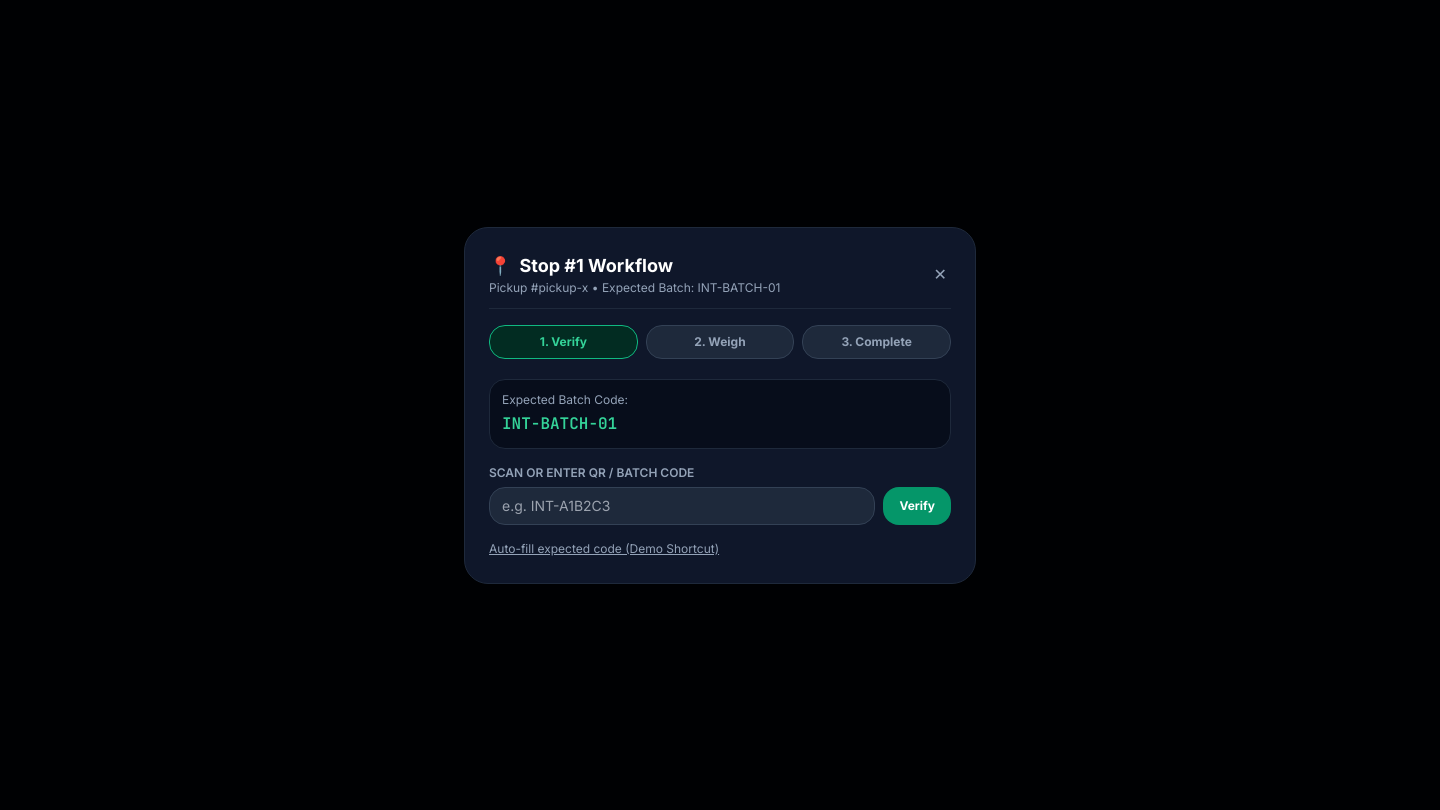
Test: DriverStopDetailModal Component › validates batch code and advances to Weigh tab upon verification
Type "INT-BATCH-01" into the field with placeholder "e.g. INT-A1B2C3". click: [682, 506]
box: top-left (489, 486), bottom-right (875, 524)
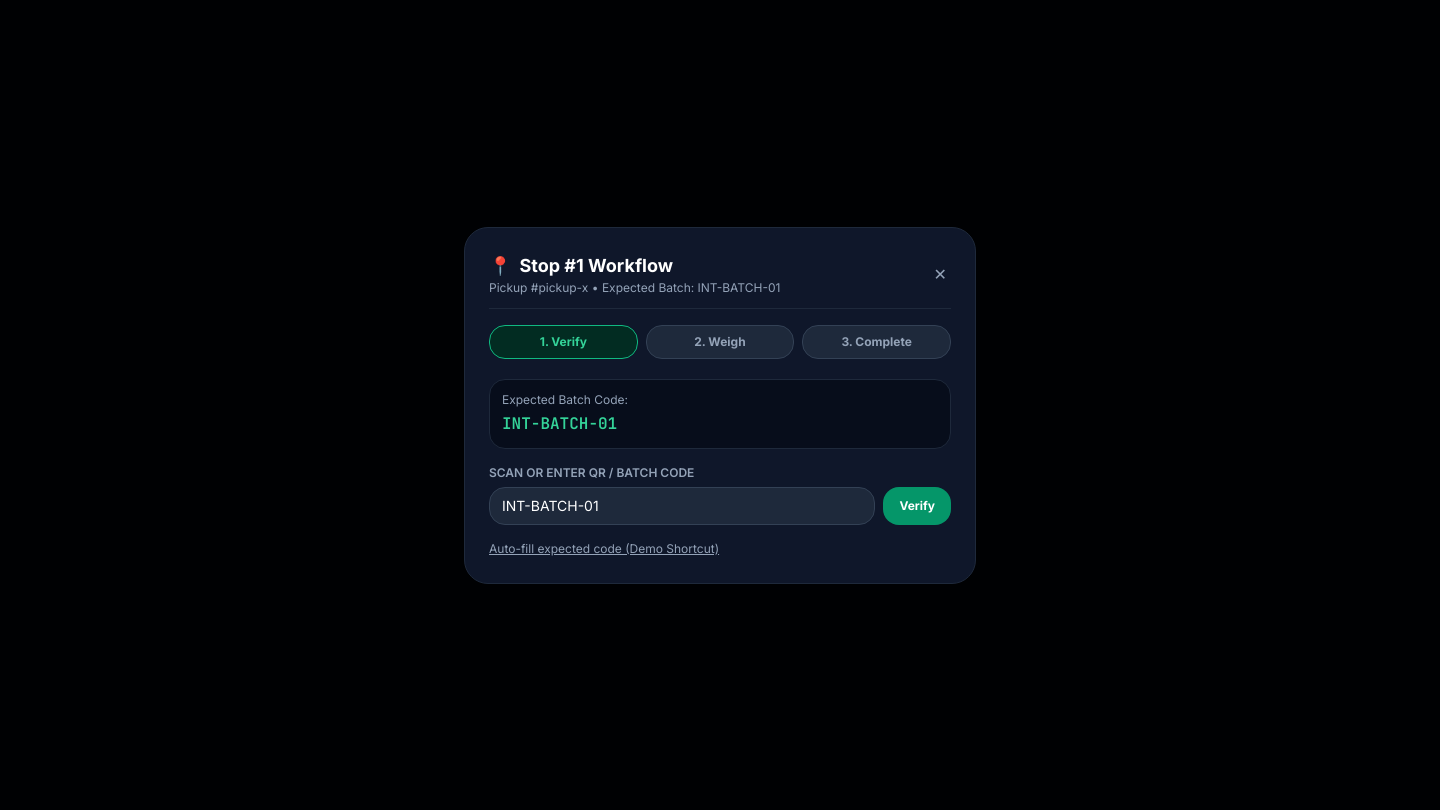
Click the button "Verify". click: [917, 506]
box: top-left (883, 486), bottom-right (951, 524)
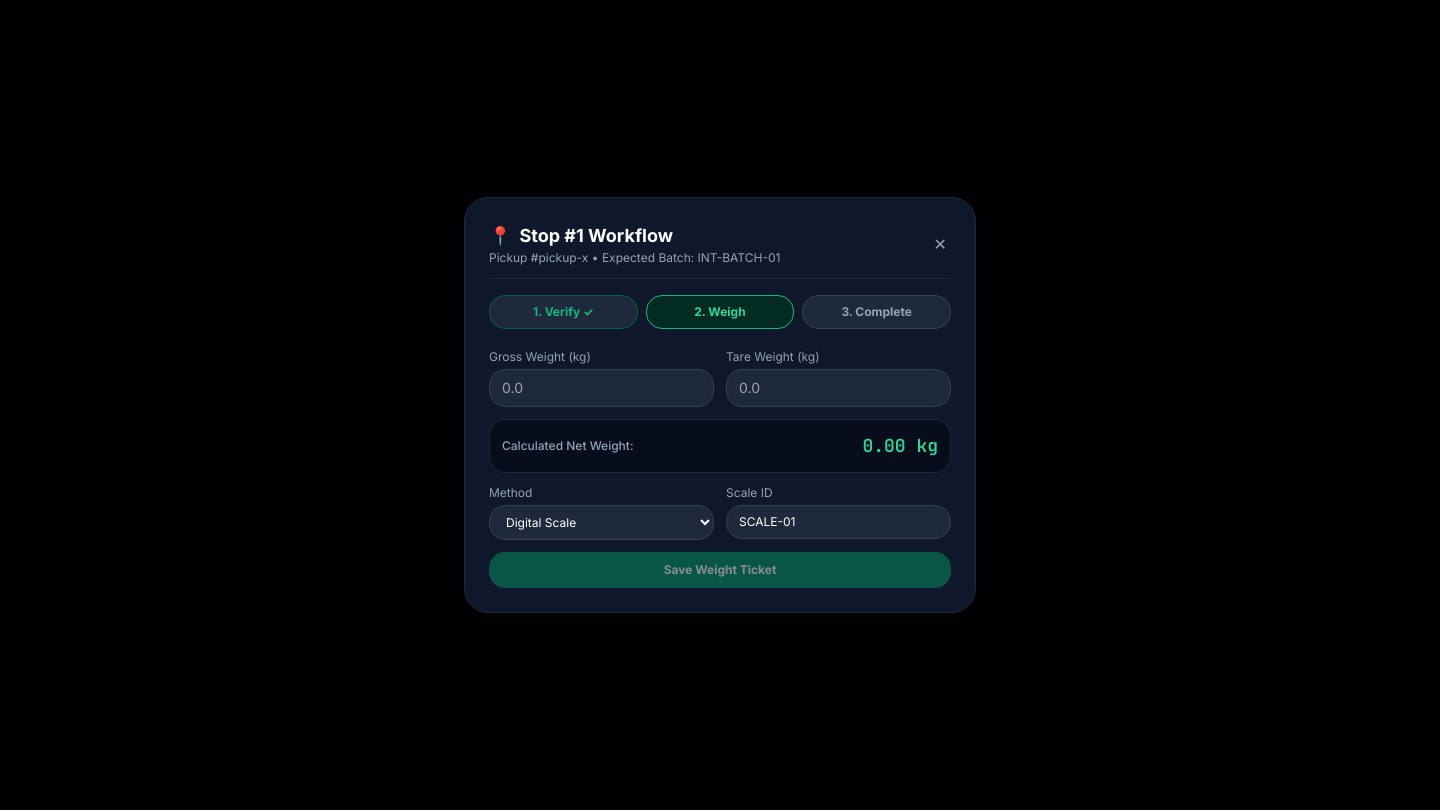
Result: the text "Gross Weight (kg)" is shown at top-left (489, 349), bottom-right (591, 364)
Result: the text "Tare Weight (kg)" is shown at top-left (726, 349), bottom-right (820, 364)
